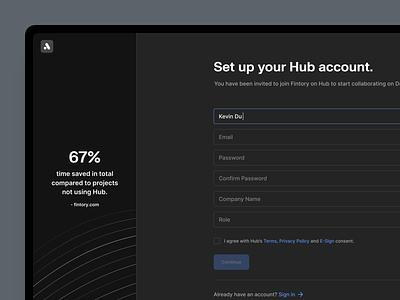button: (215, 256, 250, 271)
checkbox: (213, 238, 222, 247)
input: (215, 212, 400, 229), (215, 130, 400, 147), (215, 109, 400, 126), (214, 172, 400, 188), (215, 151, 400, 167), (214, 193, 400, 208)
